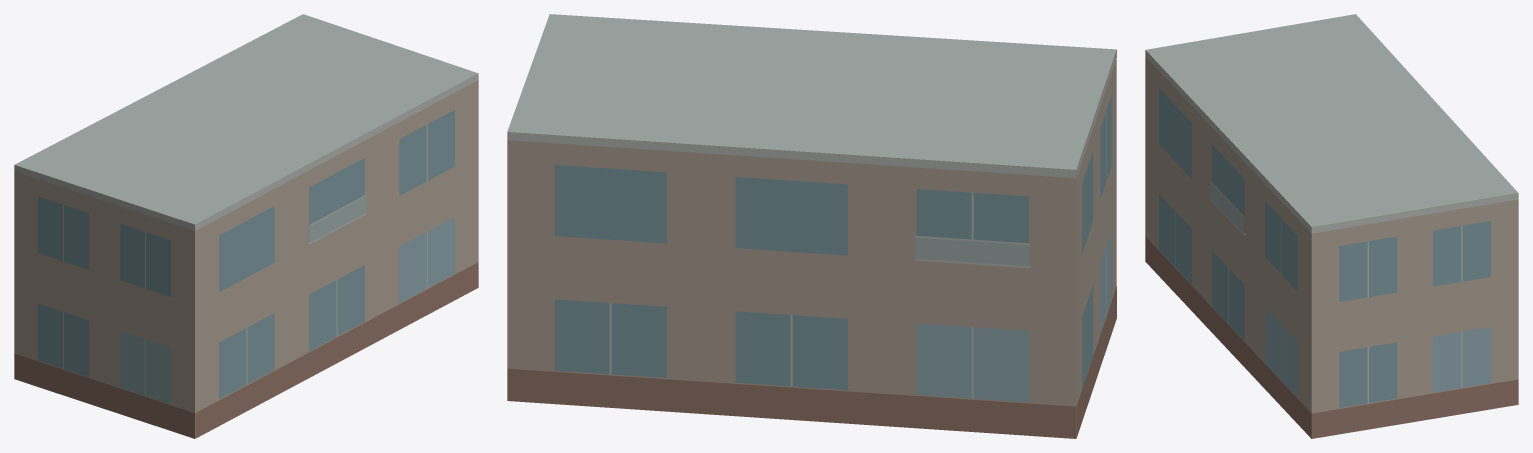
File: survey-upis-32846604.glb
3 views of the same model, side by side, from view 1: azimuth 30°, elevation 25°; view 2: azimuth 150°, elevation 25°; view 3: azimuth 270°, elevation 25° (orthographic). The views are drawn at different scales.
Parts seen in each view (by area): view 1: survey-upis-32846604.tmp; view 2: survey-upis-32846604.tmp; view 3: survey-upis-32846604.tmp.
Part boxes in pixels (x1,y1,x2,y2): survey-upis-32846604.tmp: (14, 14, 478, 438); survey-upis-32846604.tmp: (507, 14, 1116, 438); survey-upis-32846604.tmp: (1145, 14, 1518, 438).
Size of the model in its own units: 17.06 by 7.9 by 12.62.
